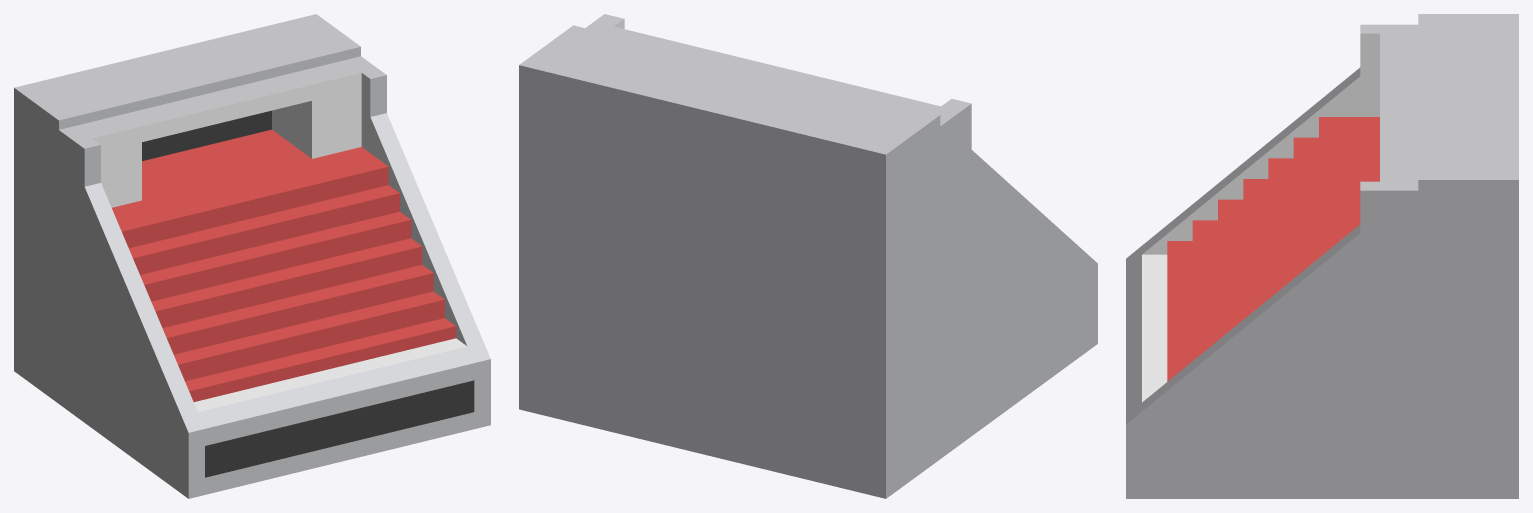
File: grandStand.glb
3 renders of one model, left to right at view 1: azimuth 30°, elevation 25°; view 2: azimuth 150°, elevation 25°; view 3: azimuth 270°, elevation 25°, orthographic. The views are drawn at different scales.
Parts seen in each view (by area): view 1: grandStand(Clone); view 2: grandStand(Clone); view 3: grandStand(Clone).
Boxes of the visible parts, x1,y1,x2,y2 form: grandStand(Clone): (14,14,490,498); grandStand(Clone): (519,14,1097,498); grandStand(Clone): (1126,14,1518,498).
Bounding box in the file's own units: 1 × 0.8963 × 1.
